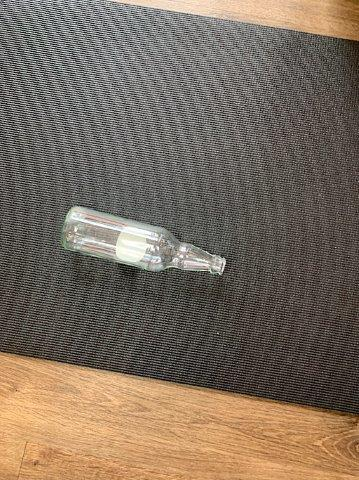botolkaca: (61, 204, 228, 275)
